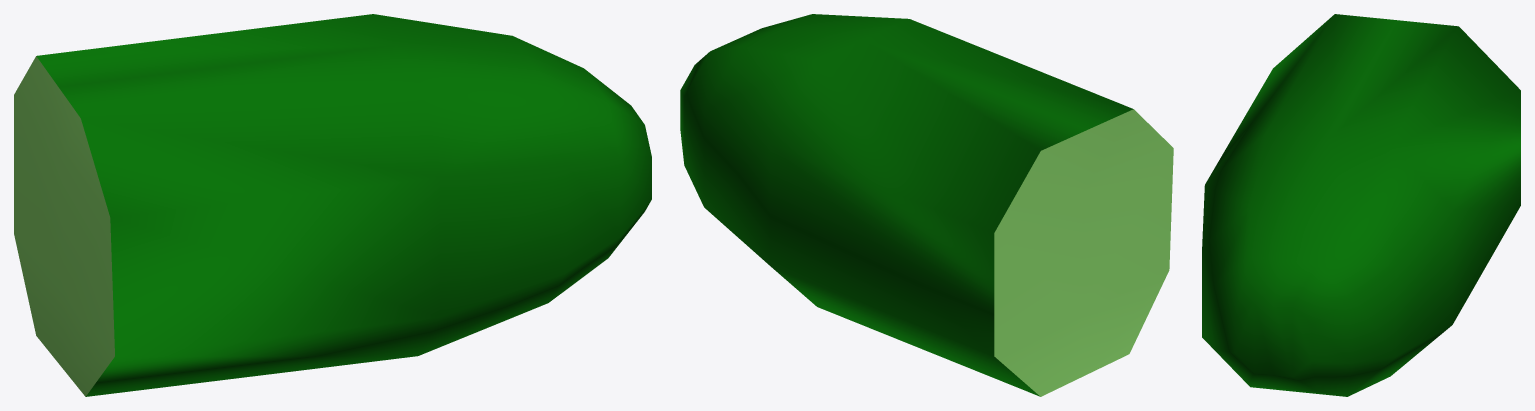
File: mesh_Cucumber_Stage10.fbx
3 renders of one model, left to right at view 1: azimuth 30°, elevation 25°; view 2: azimuth 150°, elevation 25°; view 3: azimuth 270°, elevation 25°, orthographic. The views are drawn at different scales.
Parts seen in each view (by area): view 1: mesh_Cucumber_Stage10; view 2: mesh_Cucumber_Stage10; view 3: mesh_Cucumber_Stage10.
Boxes of the visible parts, bbox=[...] form: mesh_Cucumber_Stage10: bbox=[14, 14, 651, 396]; mesh_Cucumber_Stage10: bbox=[680, 14, 1173, 396]; mesh_Cucumber_Stage10: bbox=[1202, 14, 1520, 396].
Bounding box in the file's own units: 0.0737 × 0.0367 × 0.0459.
